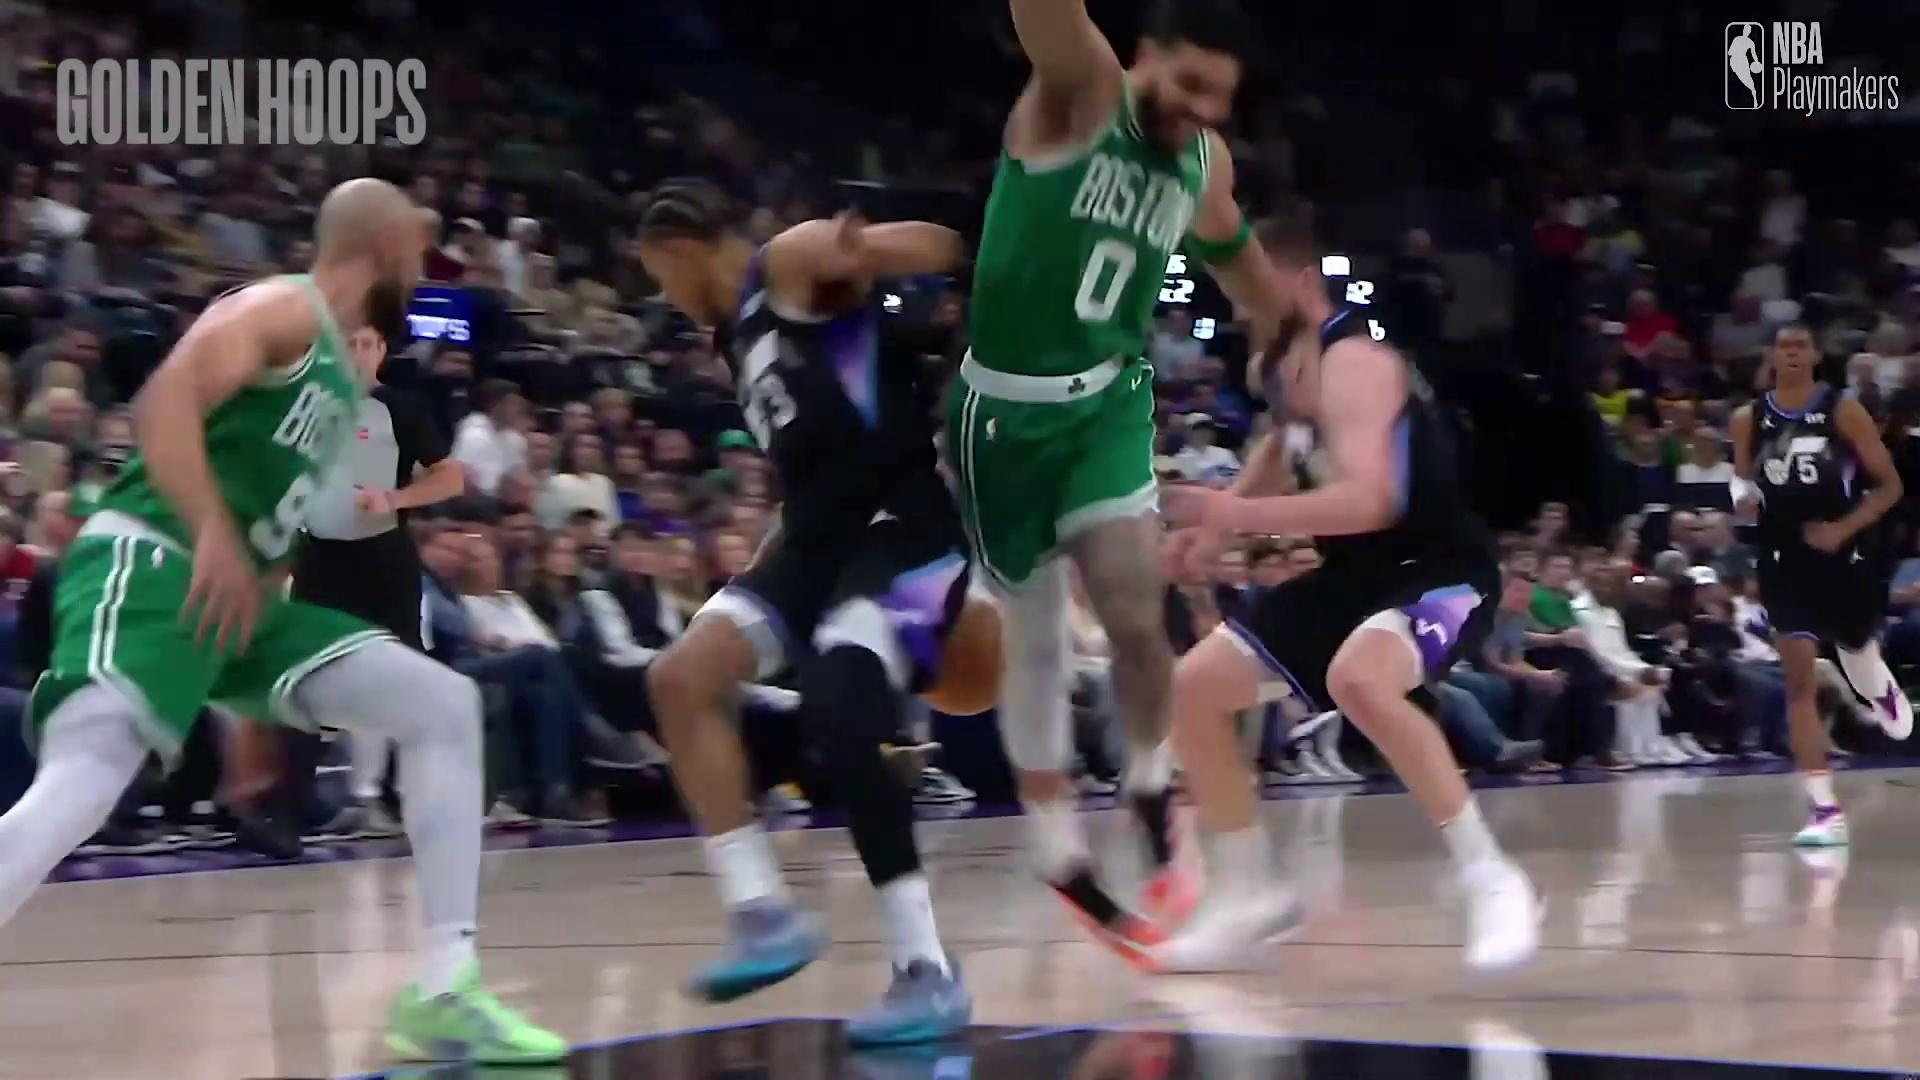ball: (947, 611, 1002, 716)
